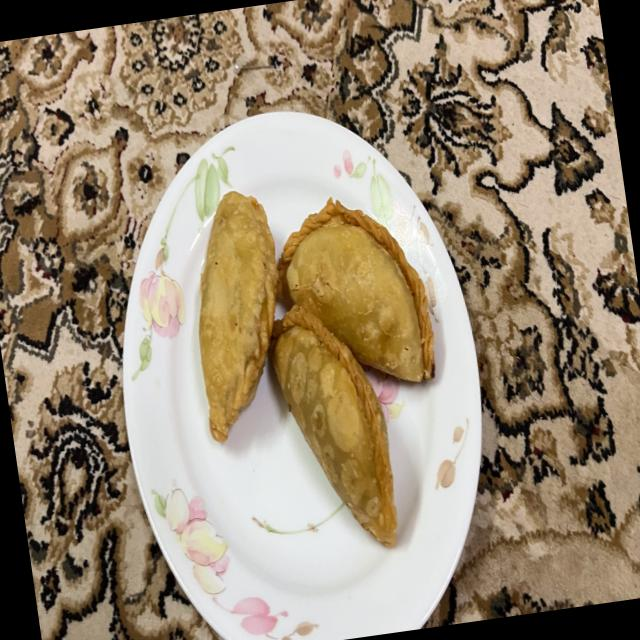karipap: (270, 305, 398, 546), (277, 199, 435, 382), (199, 191, 278, 442)
